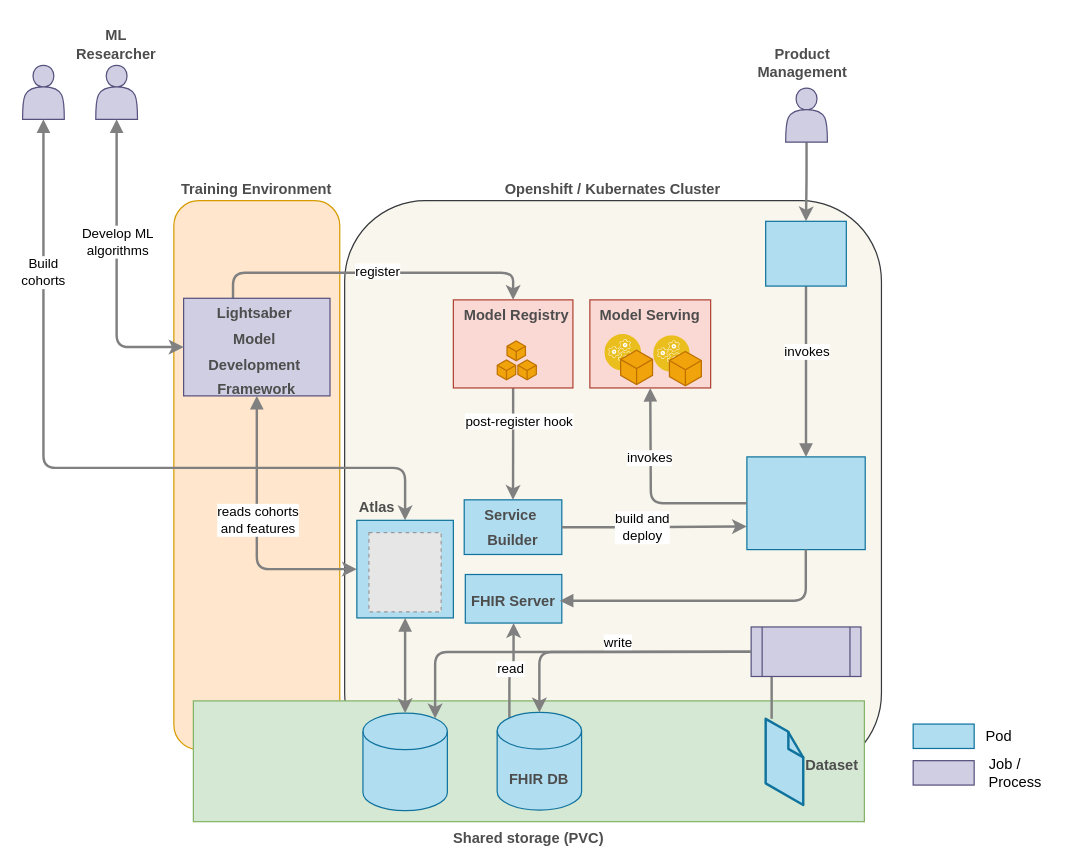
The diagram is 1075 pixels wide and 867 high, and some of its shapes have lost their labels. Grey dashed boxes stand in for pictures. The centre of each missing label's shape, as x and y in pixels:
"Ingestion Pipeline" goes at point 805,651.
"Microservice" goes at point 805,503.
"OMOP DB" goes at point 404,761.
"Smart-on-FHIR App" goes at point 805,253.
"SME" goes at point 42,91.
